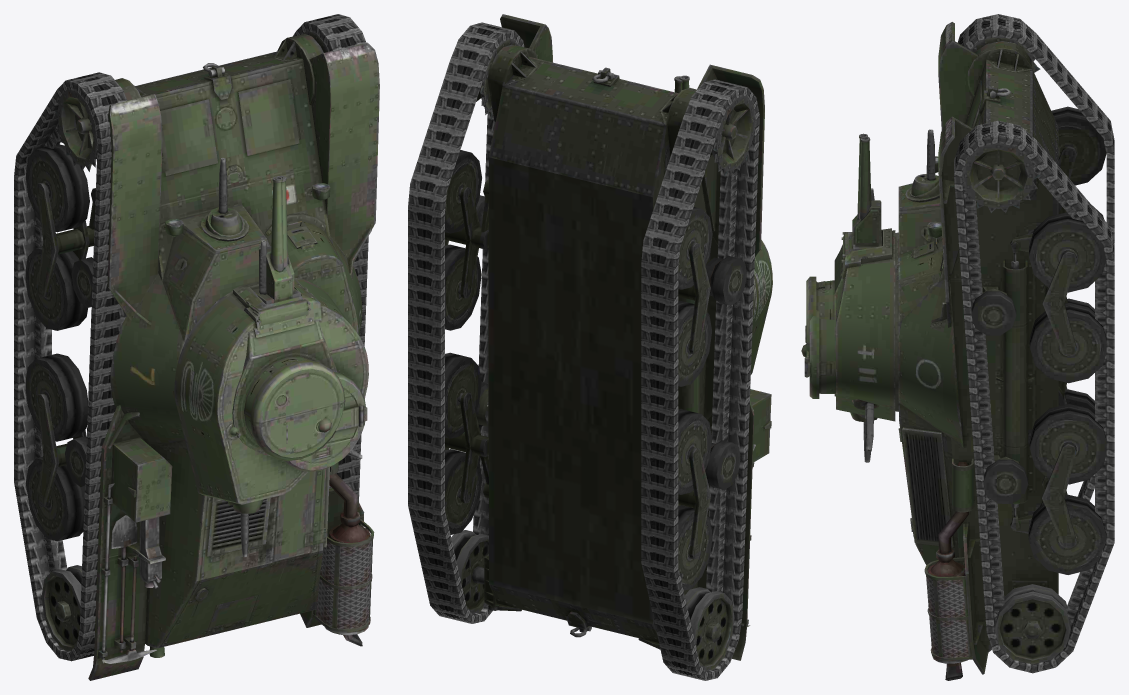
3 views of the same model, side by side, from view 1: azimuth 30°, elevation 25°; view 2: azimuth 150°, elevation 25°; view 3: azimuth 270°, elevation 25° (orthographic). The views are drawn at different scales.
Visible parts, largest first — view 1: hull, chassis_track_L, turret_02, turret_01, chassis_wheel_L_05, chassis_wheel_L_02, Ha_Go_hull_grill.sc2, chassis_wheel_L_07, chassis_wheel_L_04, chassis_track_R, chassis_wheel_L_08, chassis_wheel_L_01 (+4 smaller); view 2: hull, chassis_track_L, chassis_track_R, chassis_wheel_L_08, chassis_wheel_L_01, chassis_wheel_R_05, chassis_wheel_R_08, chassis_wheel_R_04, chassis_wheel_R_07, chassis_wheel_L_05, chassis_wheel_L_04, chassis_wheel_R_02 (+6 smaller); view 3: hull, chassis_track_R, turret_02, chassis_track_L, chassis_wheel_R_08, chassis_wheel_R_05, chassis_wheel_R_04, chassis_wheel_R_07, chassis_wheel_R_02, chassis_wheel_R_01, turret_01, chassis_wheel_L_02 (+5 smaller).
Boxes of the visible parts, x1=… form: hull: x1=36, y1=34, x2=379, y2=680; chassis_track_L: x1=14, y1=72, x2=127, y2=661; turret_02: x1=174, y1=278, x2=368, y2=556; turret_01: x1=215, y1=296, x2=362, y2=461; chassis_wheel_L_05: x1=25, y1=353, x2=87, y2=441; chassis_wheel_L_02: x1=25, y1=144, x2=89, y2=232; Ha_Go_hull_grill.sc2: x1=316, y1=540, x2=372, y2=628; chassis_wheel_L_07: x1=25, y1=457, x2=84, y2=541; chassis_wheel_L_04: x1=25, y1=246, x2=87, y2=330; chassis_track_R: x1=293, y1=14, x2=368, y2=501; chassis_wheel_L_08: x1=41, y1=565, x2=81, y2=651; chassis_wheel_L_01: x1=55, y1=89, x2=97, y2=171; hull: x1=445, y1=14, x2=771, y2=660; chassis_track_L: x1=641, y1=79, x2=759, y2=680; chassis_track_R: x1=408, y1=22, x2=524, y2=623; chassis_wheel_L_08: x1=685, y1=587, x2=734, y2=671; chassis_wheel_L_01: x1=709, y1=95, x2=755, y2=176; chassis_wheel_R_05: x1=445, y1=352, x2=481, y2=438; chassis_wheel_R_08: x1=451, y1=530, x2=488, y2=613; chassis_wheel_R_04: x1=445, y1=244, x2=481, y2=330; chassis_wheel_R_07: x1=445, y1=449, x2=482, y2=534; chassis_wheel_L_05: x1=678, y1=409, x2=712, y2=494; chassis_wheel_L_04: x1=678, y1=300, x2=711, y2=386; chassis_wheel_R_02: x1=445, y1=150, x2=481, y2=233; hull: x1=896, y1=22, x2=1076, y2=680; chassis_track_R: x1=954, y1=120, x2=1114, y2=673; turret_02: x1=801, y1=228, x2=895, y2=462; chassis_track_L: x1=957, y1=14, x2=1114, y2=501; chassis_wheel_R_08: x1=994, y1=584, x2=1070, y2=664; chassis_wheel_R_05: x1=1029, y1=404, x2=1106, y2=484; chassis_wheel_R_04: x1=1029, y1=302, x2=1106, y2=383; chassis_wheel_R_07: x1=1028, y1=494, x2=1106, y2=574; chassis_wheel_R_02: x1=1029, y1=212, x2=1106, y2=292; chassis_wheel_R_01: x1=962, y1=142, x2=1040, y2=212; turret_01: x1=806, y1=232, x2=898, y2=451; chassis_wheel_L_02: x1=1051, y1=106, x2=1106, y2=185.
Size of the model in its own units: 2.09 by 4.35 by 2.24.
3 materials, 3 textured.
